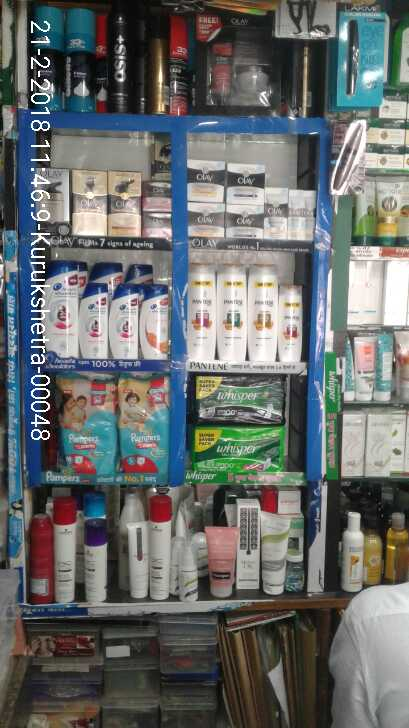gillete: (37, 6, 66, 111), (66, 9, 94, 111), (169, 15, 189, 113), (95, 15, 106, 111)
